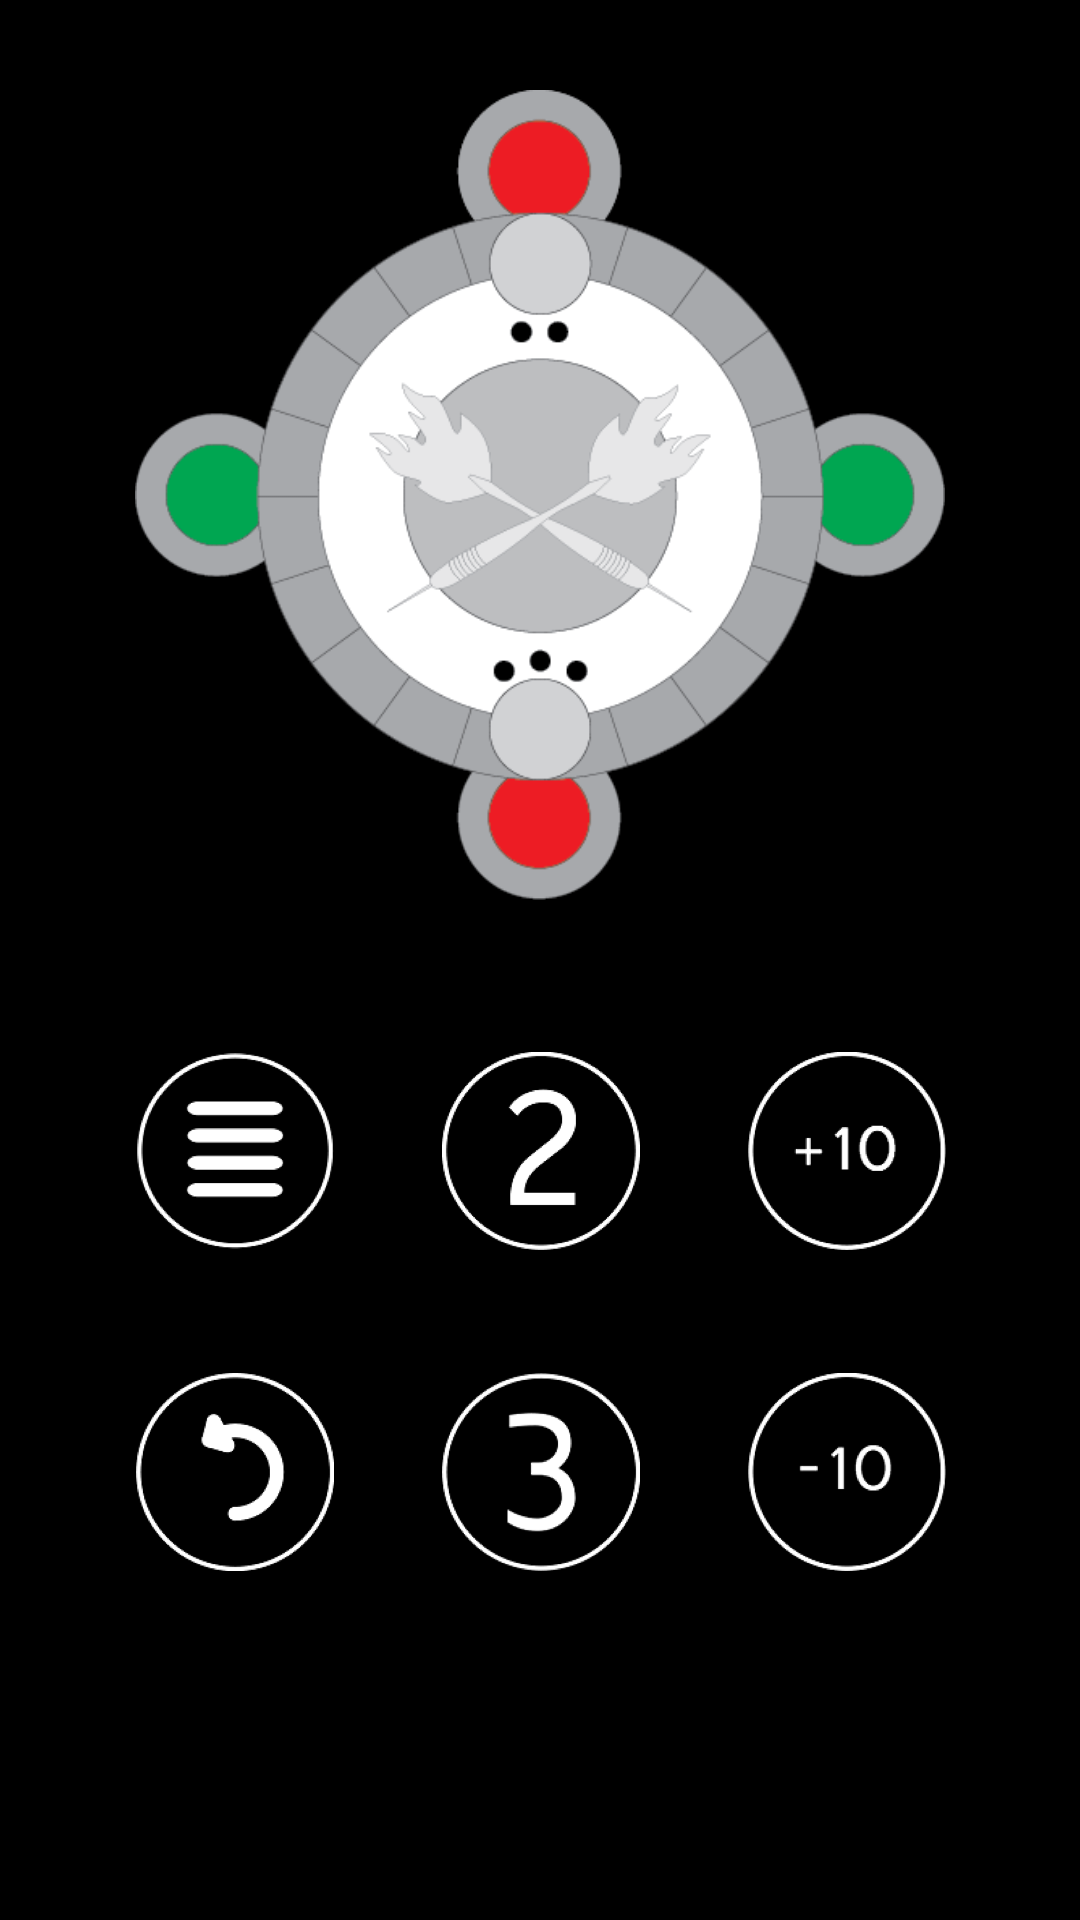

Where icons sit on this 1080 x 1920 app screen, as [x1, y1, x2, y2]:
dart minus: [748, 1373, 946, 1571]
dart plus: [748, 1052, 946, 1250]
score back: [136, 1373, 334, 1571]
score menu: [137, 1053, 333, 1249]
